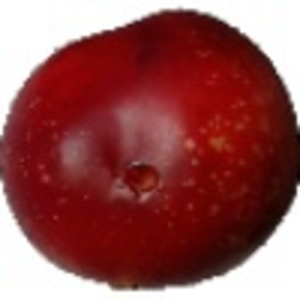nectarina: (1, 7, 300, 300)
